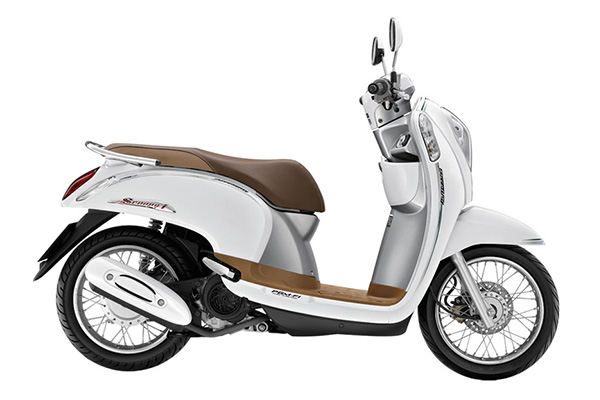motorcycle: (32, 18, 564, 379)
